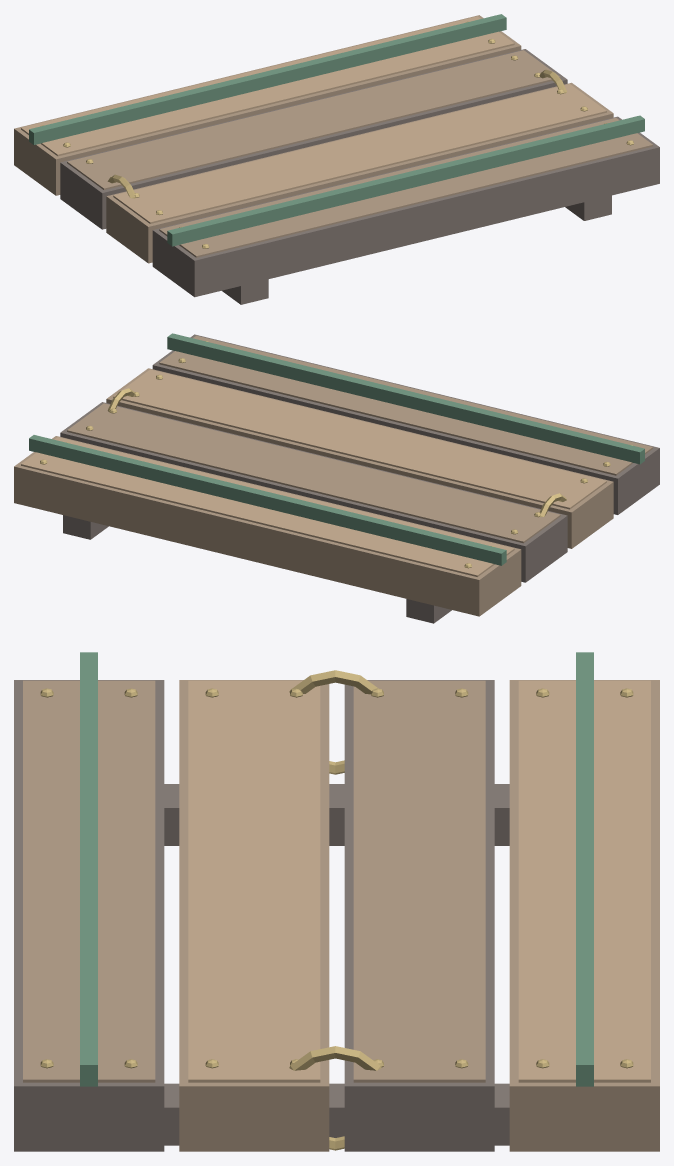
File: balsa.glb
The picture shows the model from 3 angles, top to bottom: view 1: azimuth 30°, elevation 25°; view 2: azimuth 150°, elevation 25°; view 3: azimuth 270°, elevation 25°; orthographic projection. The views are drawn at different scales.
Parts seen in each view (by area): view 1: balsa; view 2: balsa; view 3: balsa.
Part boxes in pixels (x1=…): balsa: x1=14, y1=14, x2=659, y2=304; balsa: x1=14, y1=333, x2=659, y2=623; balsa: x1=14, y1=652, x2=659, y2=1151.
Size of the model in its own units: 3.25 by 0.462 by 2.15.
